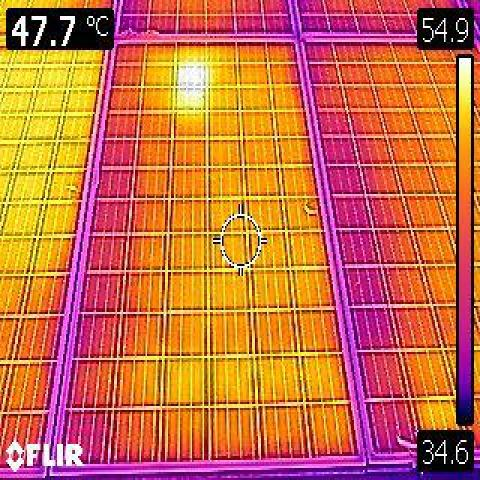fault: (175, 60, 208, 88), (178, 90, 204, 110)
